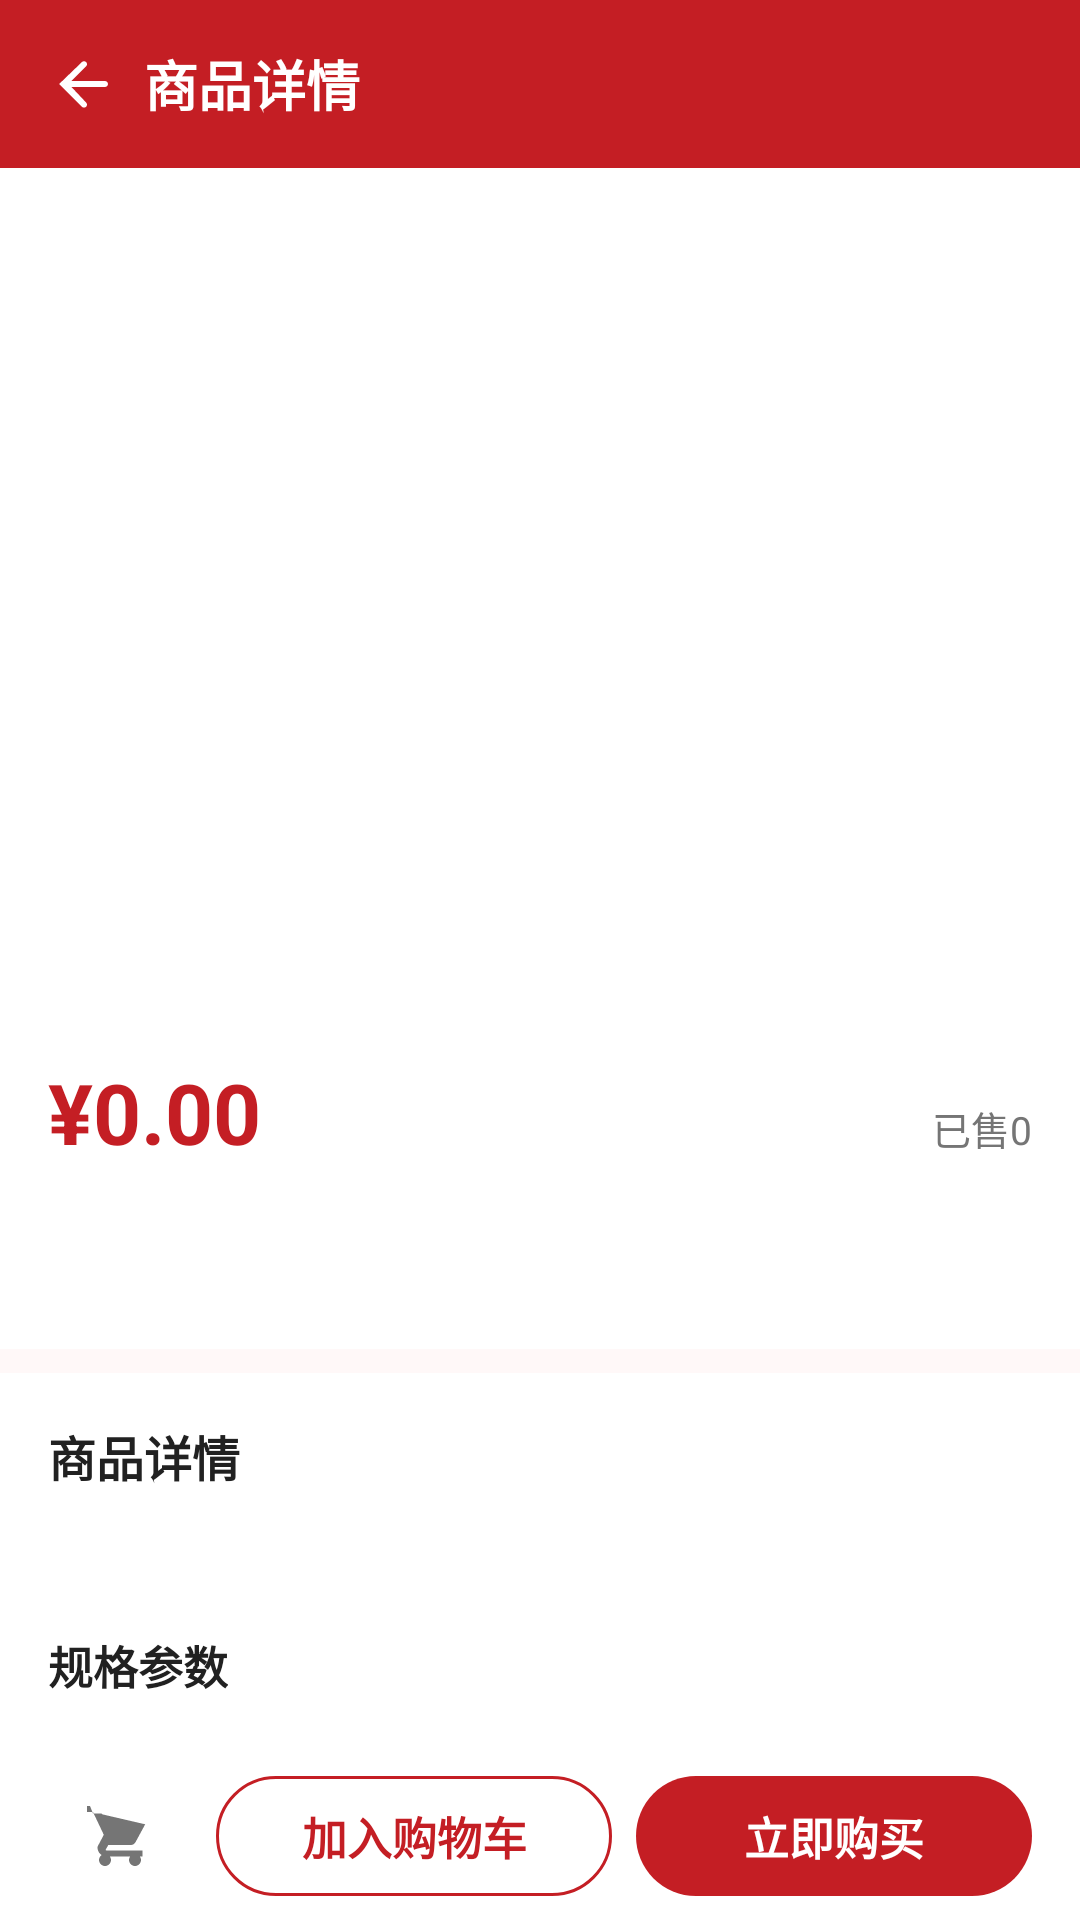

Icon click points for this 1080w x 1920h phone screenshot, format point (x, y):
back: point (83, 84)
shop: point (116, 1836)
